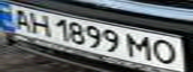1: (48, 16, 72, 42)
8: (66, 19, 87, 45)
9: (81, 22, 106, 50), (103, 26, 124, 54)
A: (6, 6, 36, 31)
H: (24, 10, 54, 36)
M: (127, 32, 157, 61)
O: (148, 37, 184, 65)
